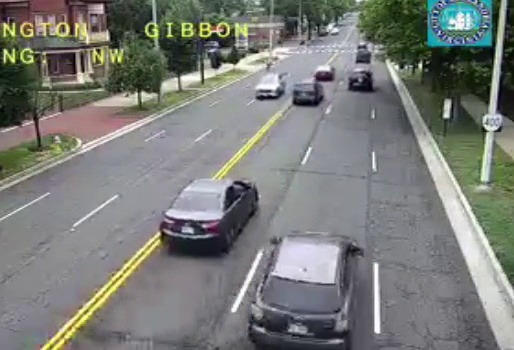car: (248, 231, 354, 350), (159, 179, 258, 241), (292, 81, 320, 106), (348, 70, 372, 91), (313, 66, 333, 81)
